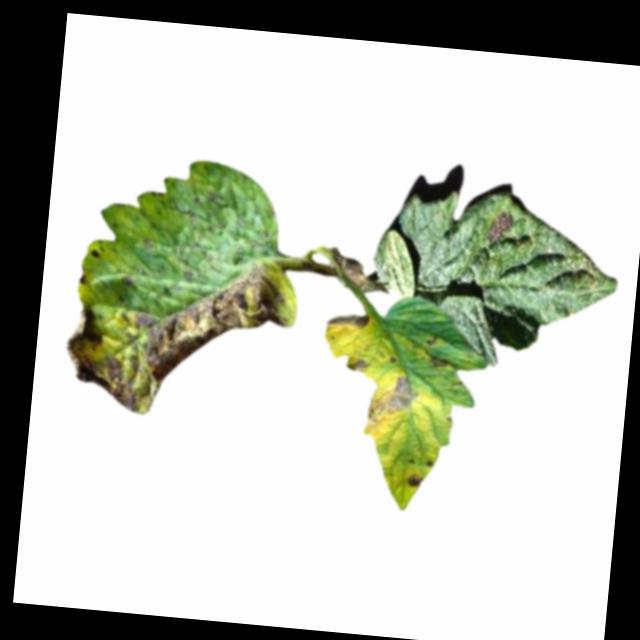Early_blight: (60, 244, 298, 428), (363, 371, 419, 438), (484, 209, 516, 244), (328, 309, 371, 329), (342, 354, 367, 372), (428, 354, 450, 369), (405, 470, 422, 488)
